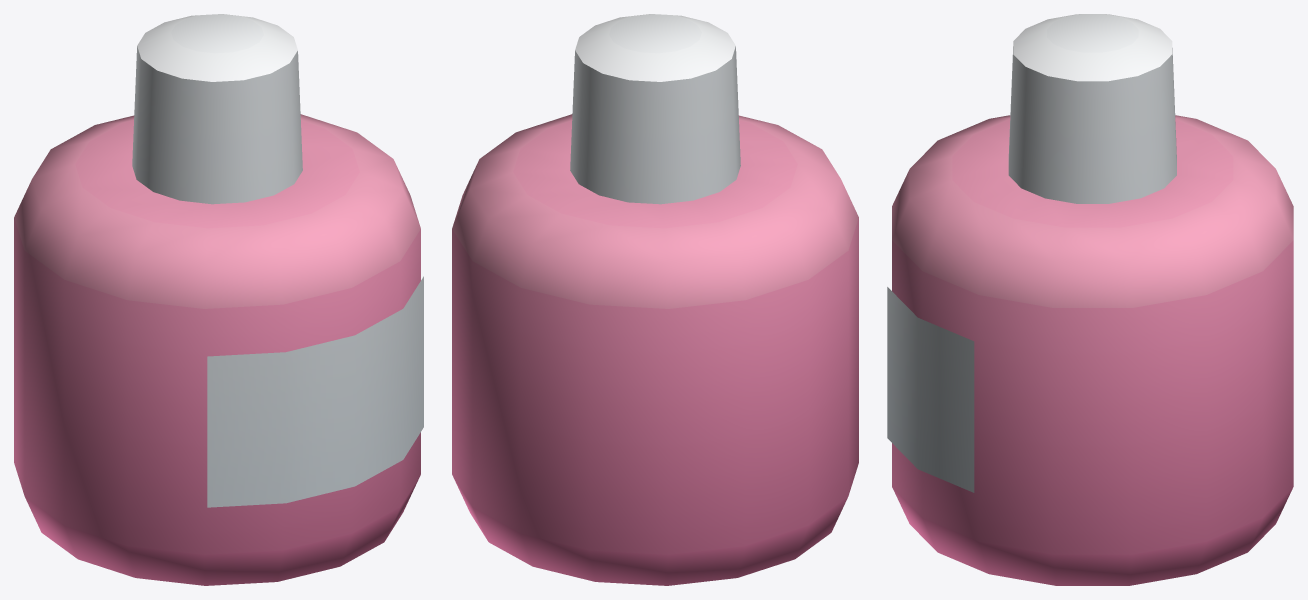
File: Container Bathroom B-U6R9p9WkD4.glb
3 views of the same model, side by side, from view 1: azimuth 30°, elevation 25°; view 2: azimuth 150°, elevation 25°; view 3: azimuth 270°, elevation 25° (orthographic).
Visible parts, largest first — view 1: container_bathroom_B_pink; view 2: container_bathroom_B_pink; view 3: container_bathroom_B_pink.
Boxes of the visible parts, bbox=[...] form: container_bathroom_B_pink: bbox=[14, 14, 423, 585]; container_bathroom_B_pink: bbox=[452, 14, 858, 585]; container_bathroom_B_pink: bbox=[887, 14, 1293, 585].
Bounding box in the file's own units: 0.312 × 0.422 × 0.3162.
Materials: 1 (1 with a texture image).
